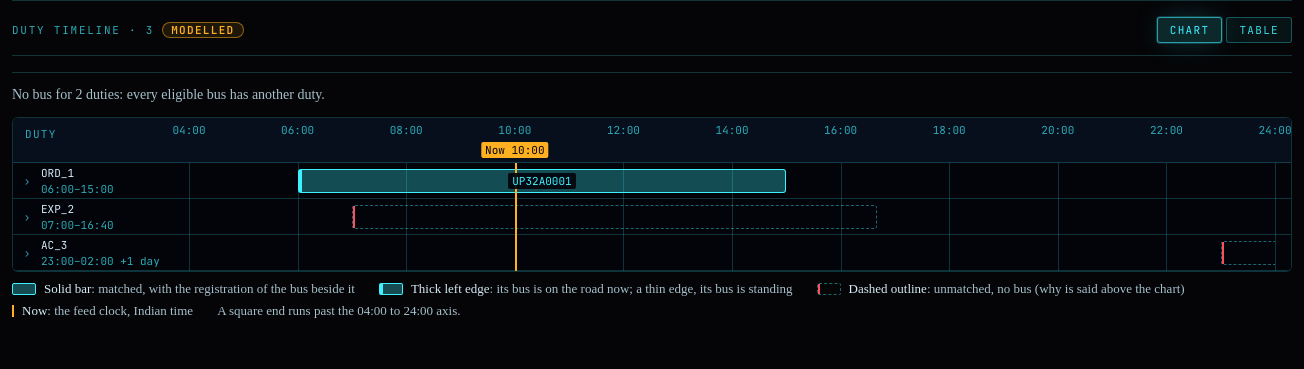
Scenario: DutyBoard › opens the shared row expander from a chart row, with how the bus stands and its class
Click the button "›" next to "ORD_1" at (27, 180), box [17, 168, 37, 192]
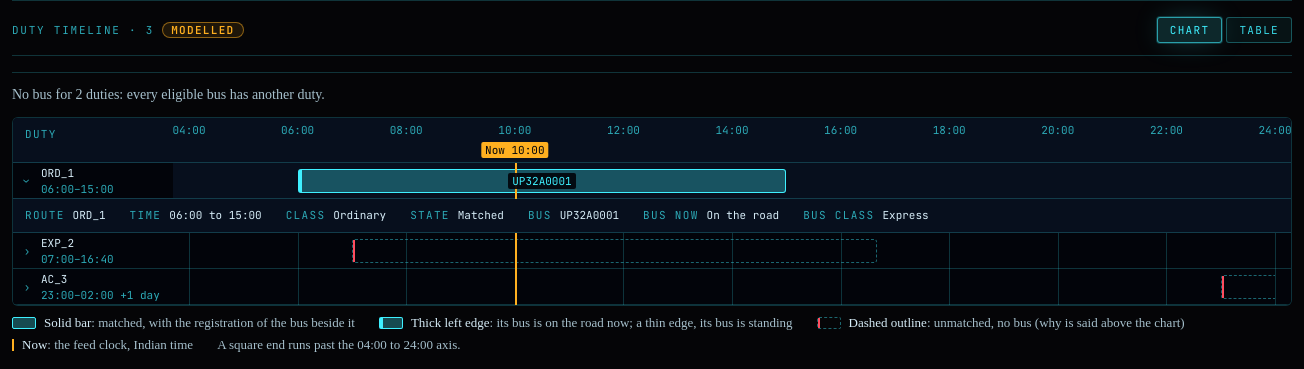
expect the button "›" next to "06:00–15:00" is expanded: met, box [17, 168, 37, 192]
expect the element with test id "duty-row-detail" shows "On the road": met, box [707, 208, 779, 222]
expect the element with test id "duty-row-detail" shows "Express": met, box [882, 208, 929, 222]
